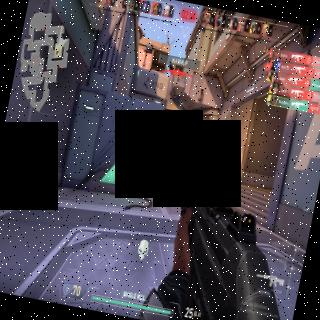ENEMY-BODY: (154, 155, 162, 175)
ENEMY-HEAD: (158, 157, 160, 160)
